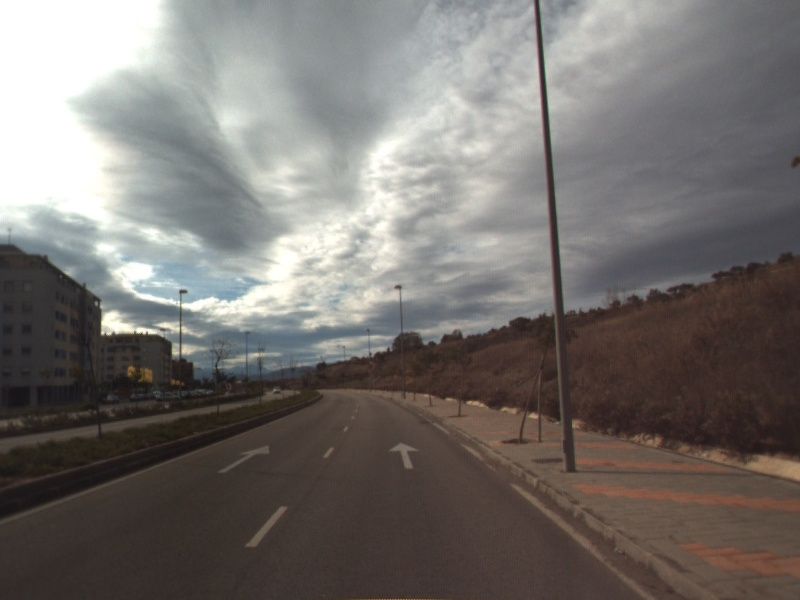STRAIGHT: (215, 443, 272, 475), (386, 440, 422, 471)
